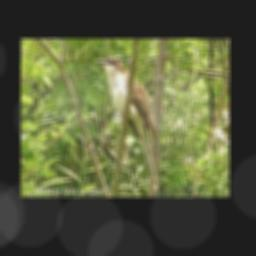Cuckoo: (96, 56, 157, 191)
